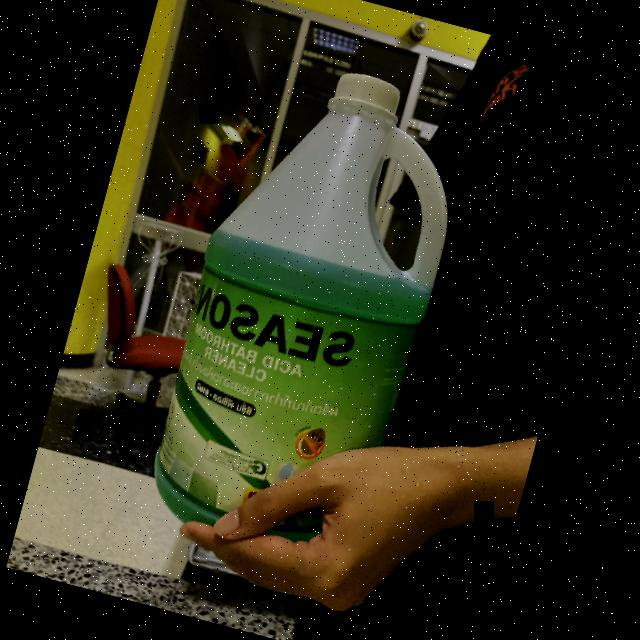chemical_plastic_gallon: (135, 42, 485, 574)
